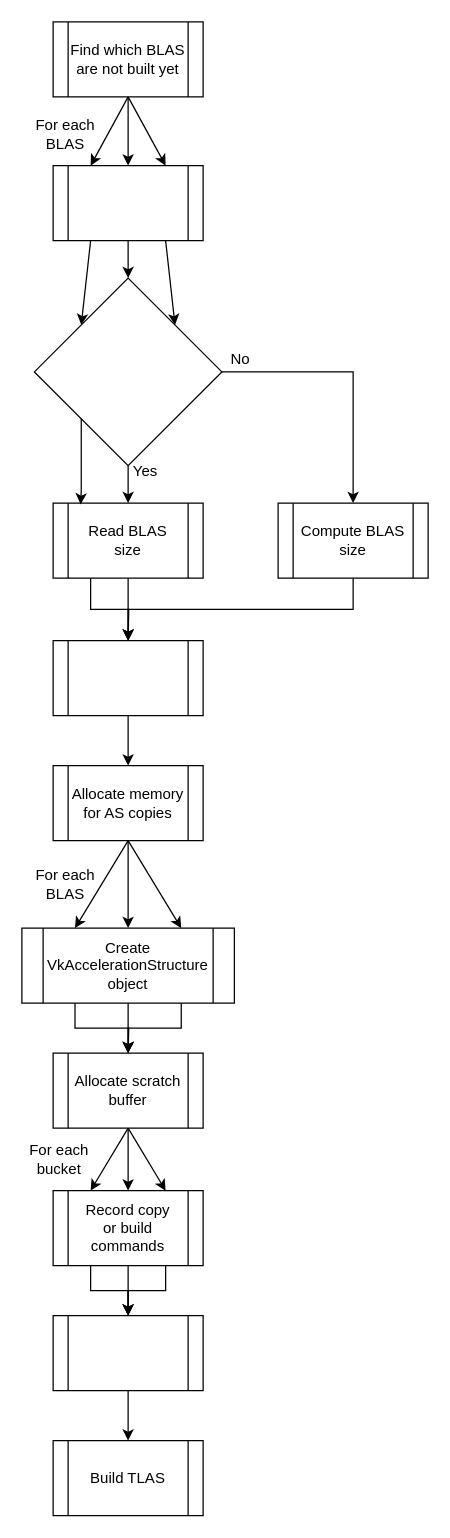
This 450x1538 diagram has some shape labels left out. Here are the shapes that lost their labels. From the top down, the centre of each, then its label:
pixel 127 202: Add geometries to storage buffer for use with rayqueries
pixel 127 371: Is precomputed BLAS compatible?
pixel 127 677: Allocate memory for AS storage
pixel 127 1352: Submit command buffers
